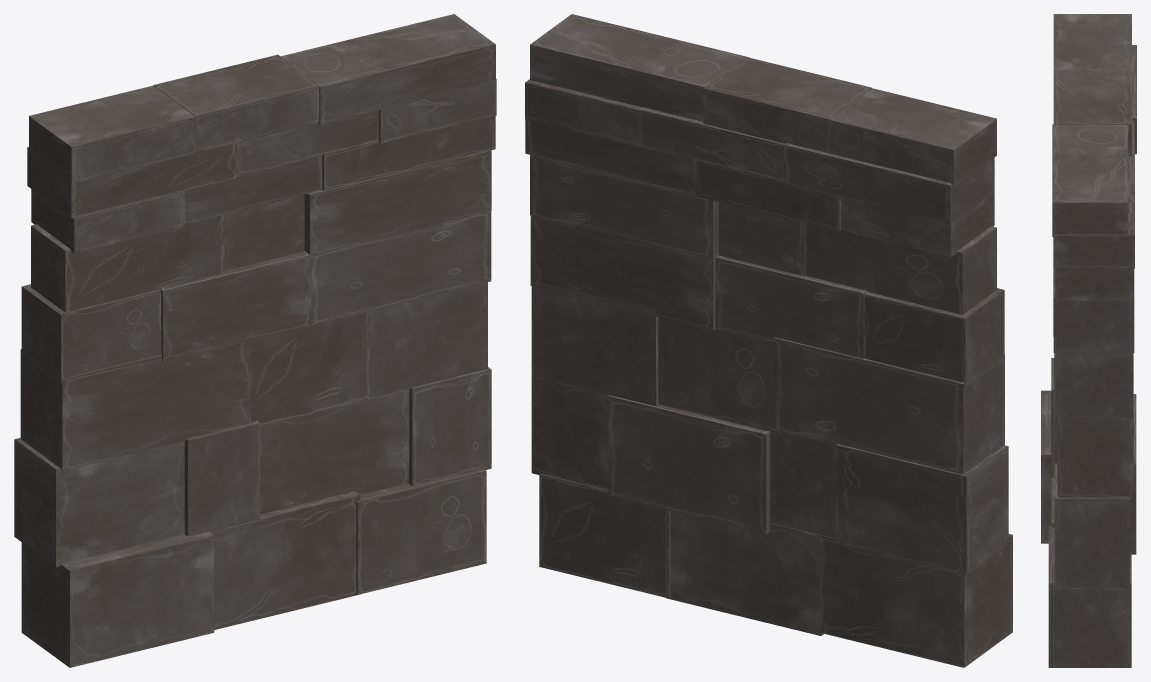
File: Stone_Wall_Var1.fbx
The picture shows the model from 3 angles, left to right: view 1: azimuth 30°, elevation 25°; view 2: azimuth 150°, elevation 25°; view 3: azimuth 270°, elevation 25°; orthographic projection. The views are drawn at different scales.
Visible parts, largest first — view 1: srfvg; view 2: srfvg; view 3: srfvg.
Part boxes in pixels (x1,y1,x2,y2): srfvg: (14, 14, 496, 667); srfvg: (525, 14, 1012, 667); srfvg: (1041, 14, 1136, 667).
Bounding box in the file's own units: 3.12 × 3.52 × 0.6466.
